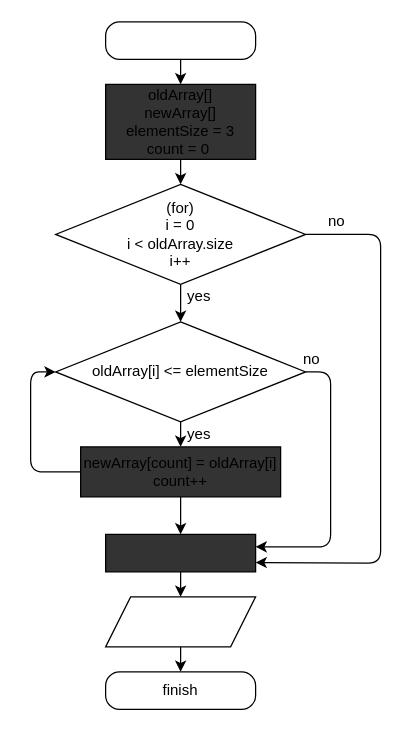
Some shapes in this 413 by 731 pixel diagram are drawn without their labels. Here are the shapes that lost their labels. From the top down, the box of each, then its label:
(104, 21, 256, 59): start
(104, 533, 256, 572): newArray[] resize
(104, 596, 256, 647): oldArray[] newArray[]
